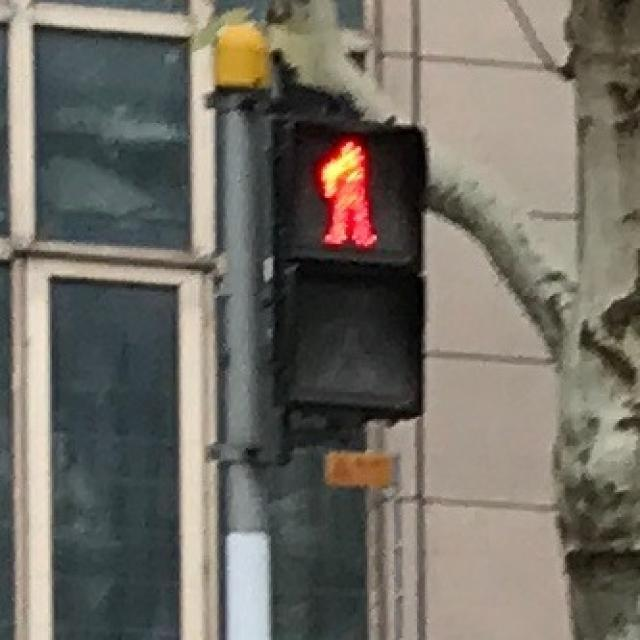red-crossing: (280, 112, 406, 260)
